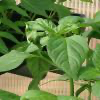Bell_pepper leaf: (46, 35, 91, 83), (1, 50, 49, 73)
